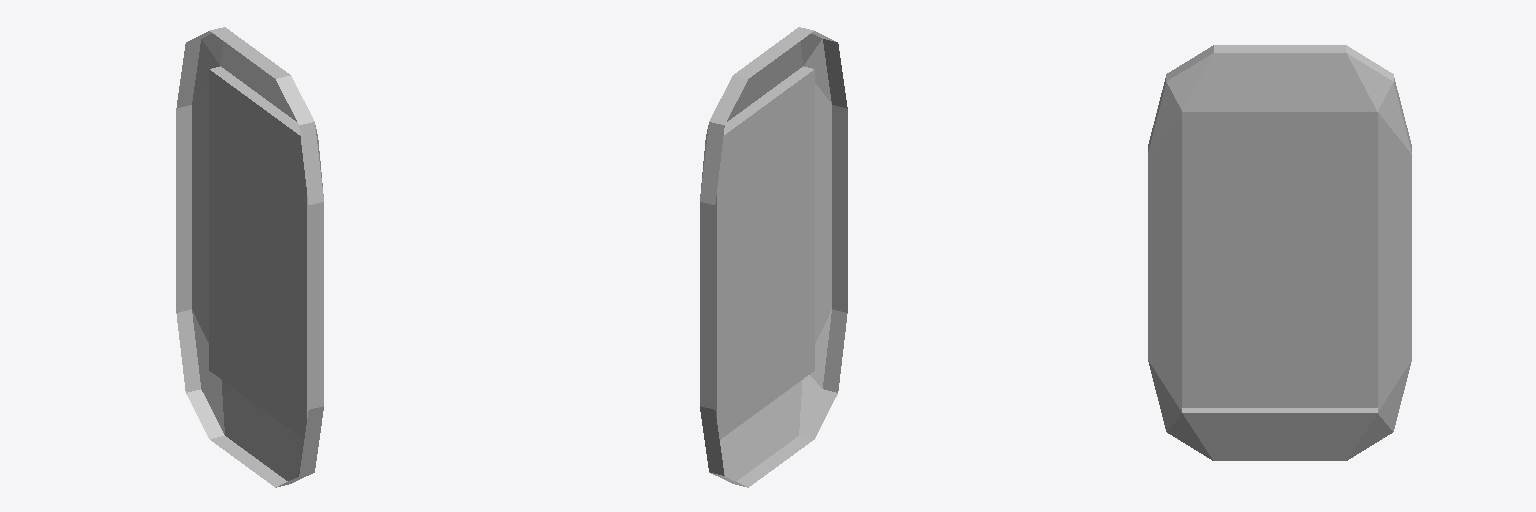
Rendered from window.obj.
3 views of the same model, side by side, from view 1: azimuth 30°, elevation 25°; view 2: azimuth 150°, elevation 25°; view 3: azimuth 270°, elevation 25° (orthographic).
Parts seen in each view (by area): view 1: Plane; view 2: Plane; view 3: Plane.
Part boxes in pixels (x1,y1,x2,y2): Plane: (176,27,323,487); Plane: (700,27,847,487); Plane: (1148,45,1411,460).
Bounding box in the file's own units: 0.7406 × 10.71 × 6.28.